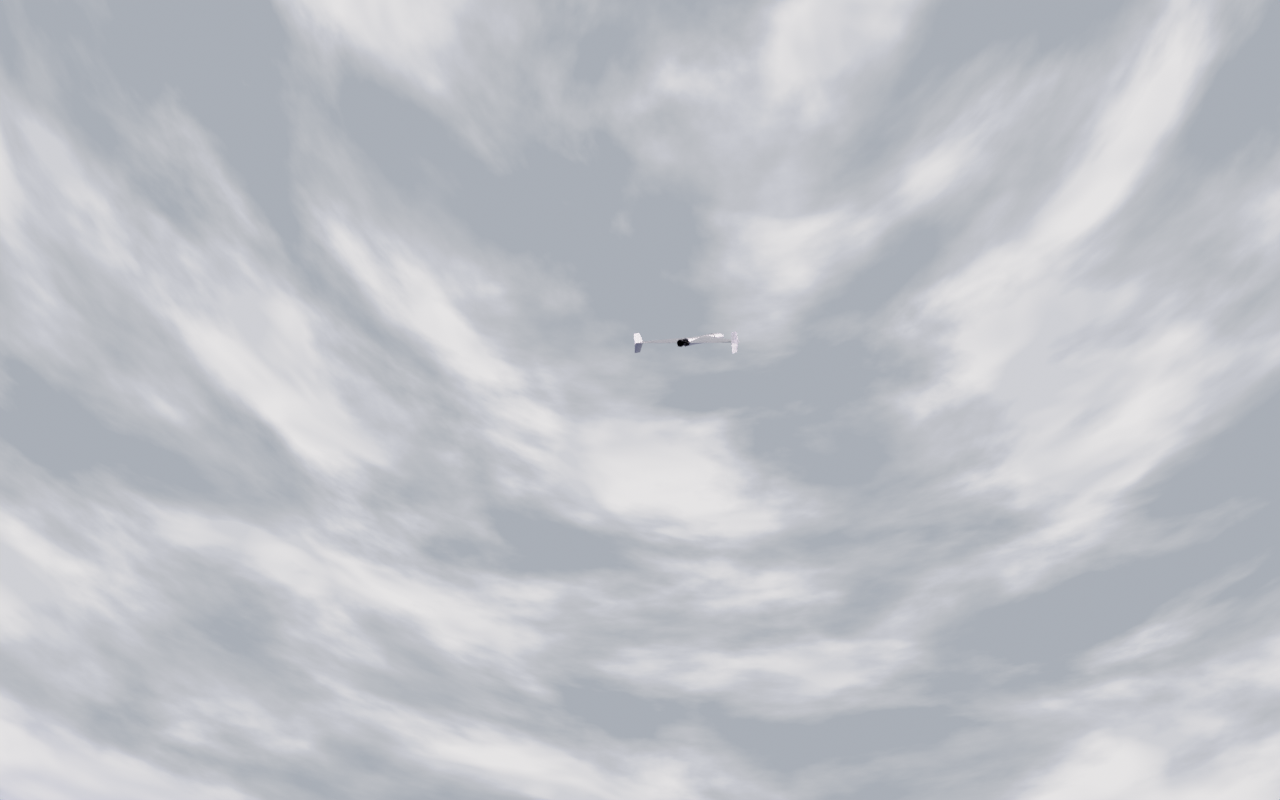shahed: (634, 332, 742, 355)
